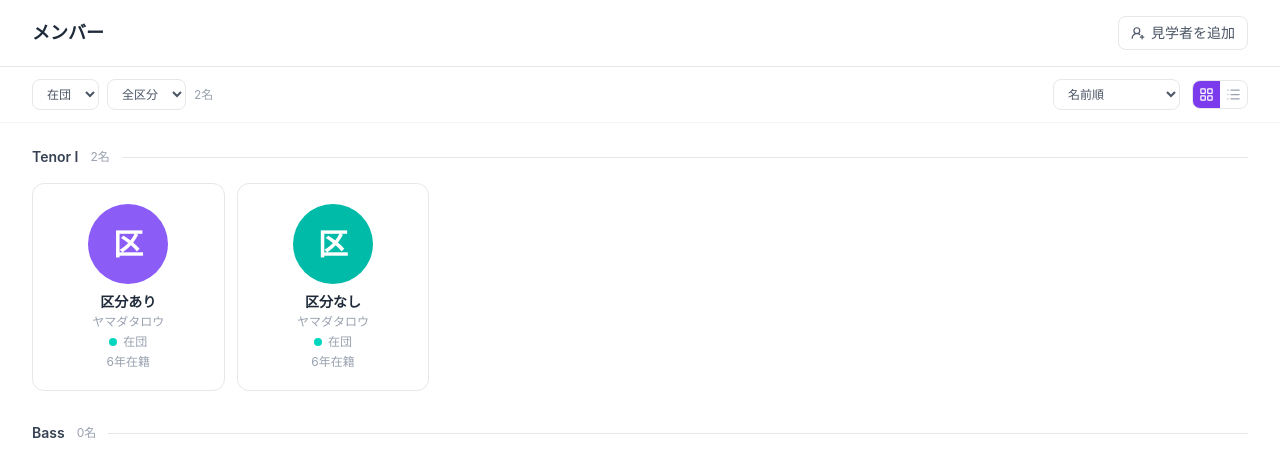
Test case: MembersPage（フィルタ） › メンバー区分フィルタで絞り込める
Expected: the text "区分あり" is shown, left=100, top=292, right=156, bottom=312
Expected: the text "区分なし" is shown, left=305, top=292, right=361, bottom=312
Step 1. Select "正団員" in the 2nd dropdown showing "全区分" → (146, 94), box left=107, top=79, right=186, bottom=110
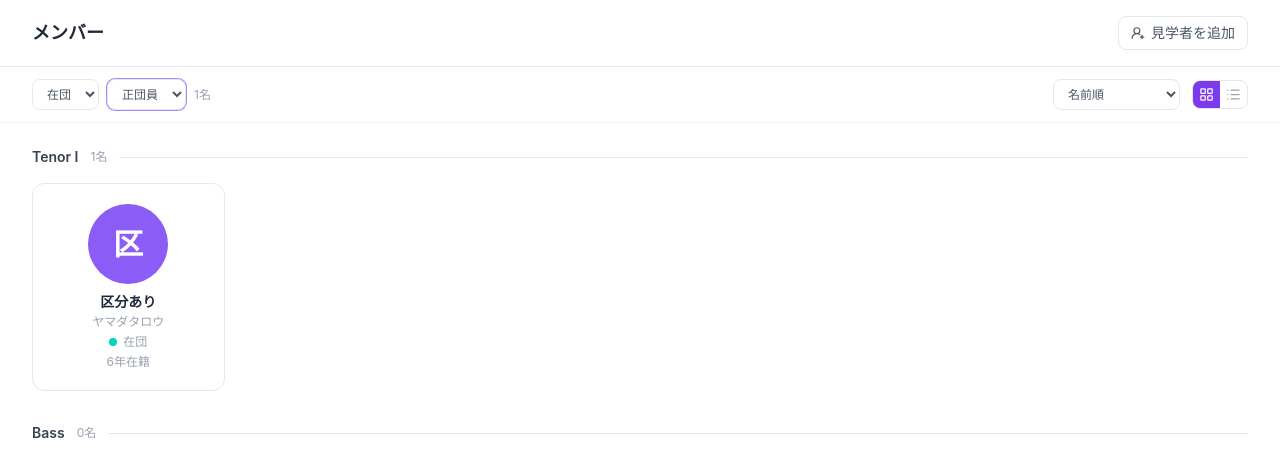
Expected: the text "区分あり" is shown, left=100, top=292, right=156, bottom=312
Expected: the link "区分なし" is gone
